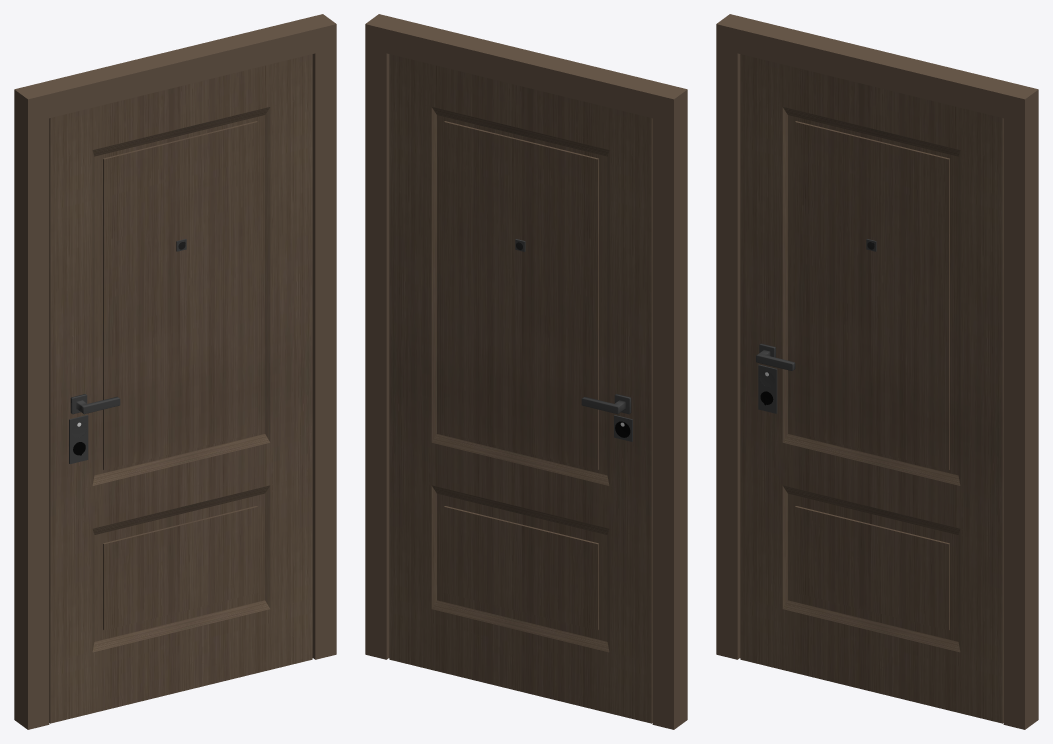
File: d_oak.glb
3 views of the same model, side by side, from view 1: azimuth 30°, elevation 25°; view 2: azimuth 150°, elevation 25°; view 3: azimuth 330°, elevation 25° (orthographic).
Visible parts, largest first — view 1: Cube.001_Wood 03_0, Cube_Material.001_0; view 2: Cube.001_Wood 03_0, Cube_Material.001_0; view 3: Cube.001_Wood 03_0, Cube_Material.001_0.
Boxes of the visible parts, left/top/right/bottom form: Cube.001_Wood 03_0: left=14, top=14, right=336, bottom=729; Cube_Material.001_0: left=69, top=239, right=186, bottom=464; Cube.001_Wood 03_0: left=365, top=14, right=687, bottom=729; Cube_Material.001_0: left=515, top=239, right=632, bottom=441; Cube.001_Wood 03_0: left=716, top=14, right=1038, bottom=729; Cube_Material.001_0: left=756, top=239, right=876, bottom=413.
Size of the model in its own units: 1.05 by 2.05 by 0.1754.
5 materials, 1 textured.
